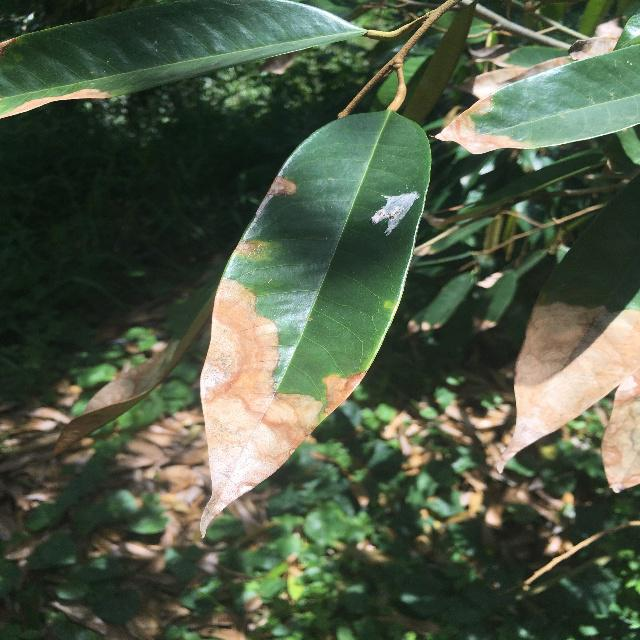Leaf Blight: (191, 107, 435, 541)
